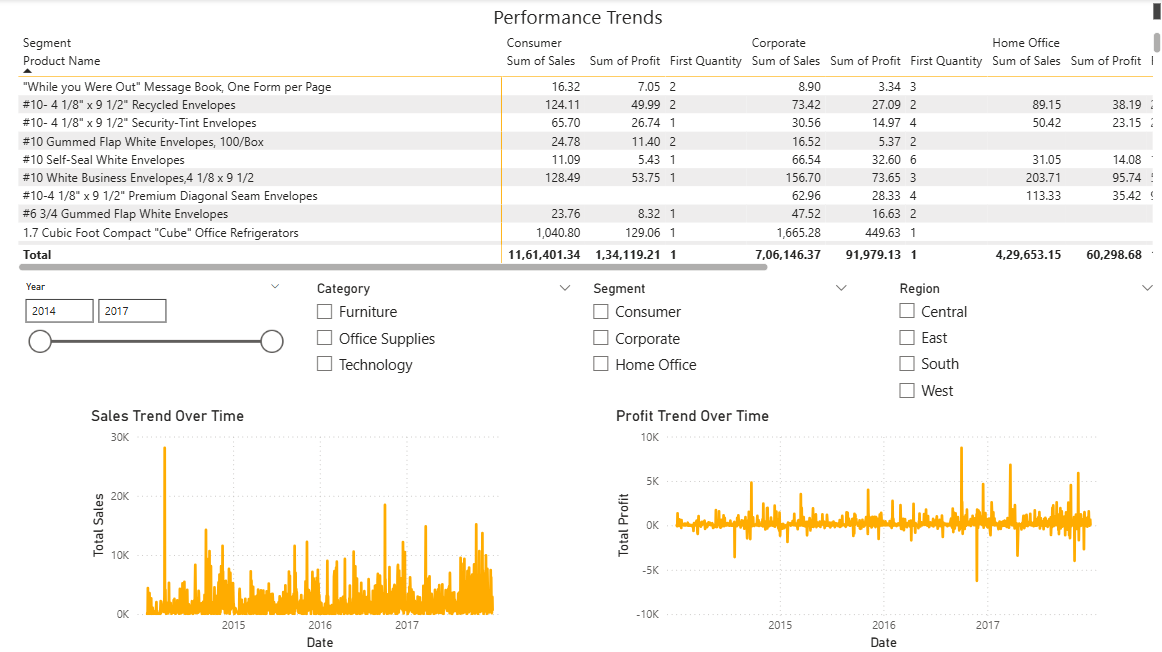

The page's visual inventory and layout, read from the dashboard file:
{"tool":"powerbi","page":{"name":"Performance Trends","canvas":[1280,720],"ordinal":2},"visuals":[{"type":"pivotTable","fields":{"Values":["Sum(Sample - Superstore.Sales)","Sum(Sample - Superstore.Profit)","Min(Sample - Superstore.Quantity)"],"Rows":["Sample - Superstore.Product Name"],"Columns":["Sample - Superstore.Segment"]},"box":[16,32,1264,272],"z":0},{"type":"slicer","fields":{"Values":["DateTable.Year"]},"box":[16,304,304,144],"z":1000},{"type":"slicer","fields":{"Values":["Sample - Superstore.Category"]},"box":[336,304,304,144],"z":2000},{"type":"slicer","fields":{"Values":["Sample - Superstore.Segment"]},"box":[640,304,304,144],"z":3000},{"type":"slicer","fields":{"Values":["Sample - Superstore.Region"]},"box":[976,304,304,144],"z":4000},{"type":"lineChart","title":"Sales Trend Over Time","fields":{"Category":["DateTable.Date"],"Y":["Sample - Superstore.Total Sales"]},"box":[96,448,464,272],"z":5000},{"type":"lineChart","title":"Profit Trend Over Time","fields":{"Category":["DateTable.Date"],"Y":["Sample - Superstore.Total Profit"]},"box":[672,448,544,272],"z":6000},{"type":"textbox","box":[0,0,1280,32],"z":6001}]}

Visuals, with their boxes on the page's 1280x720 design canvas (x1, y1, x2, y2). These are canvas units, not pixel positions in the 1162x652 screenshot, which may show the page scaled, cropped or inside an application window:
pivotTable - Sum(Sample - Superstore.Sales) x Sum(Sample - Superstore.Profit): {"left": 16, "top": 32, "right": 1280, "bottom": 304}
slicer - DateTable.Year: {"left": 16, "top": 304, "right": 320, "bottom": 448}
slicer - Sample - Superstore.Category: {"left": 336, "top": 304, "right": 640, "bottom": 448}
slicer - Sample - Superstore.Segment: {"left": 640, "top": 304, "right": 944, "bottom": 448}
slicer - Sample - Superstore.Region: {"left": 976, "top": 304, "right": 1280, "bottom": 448}
"Sales Trend Over Time" lineChart: {"left": 96, "top": 448, "right": 560, "bottom": 720}
"Profit Trend Over Time" lineChart: {"left": 672, "top": 448, "right": 1216, "bottom": 720}
textbox: {"left": 0, "top": 0, "right": 1280, "bottom": 32}
